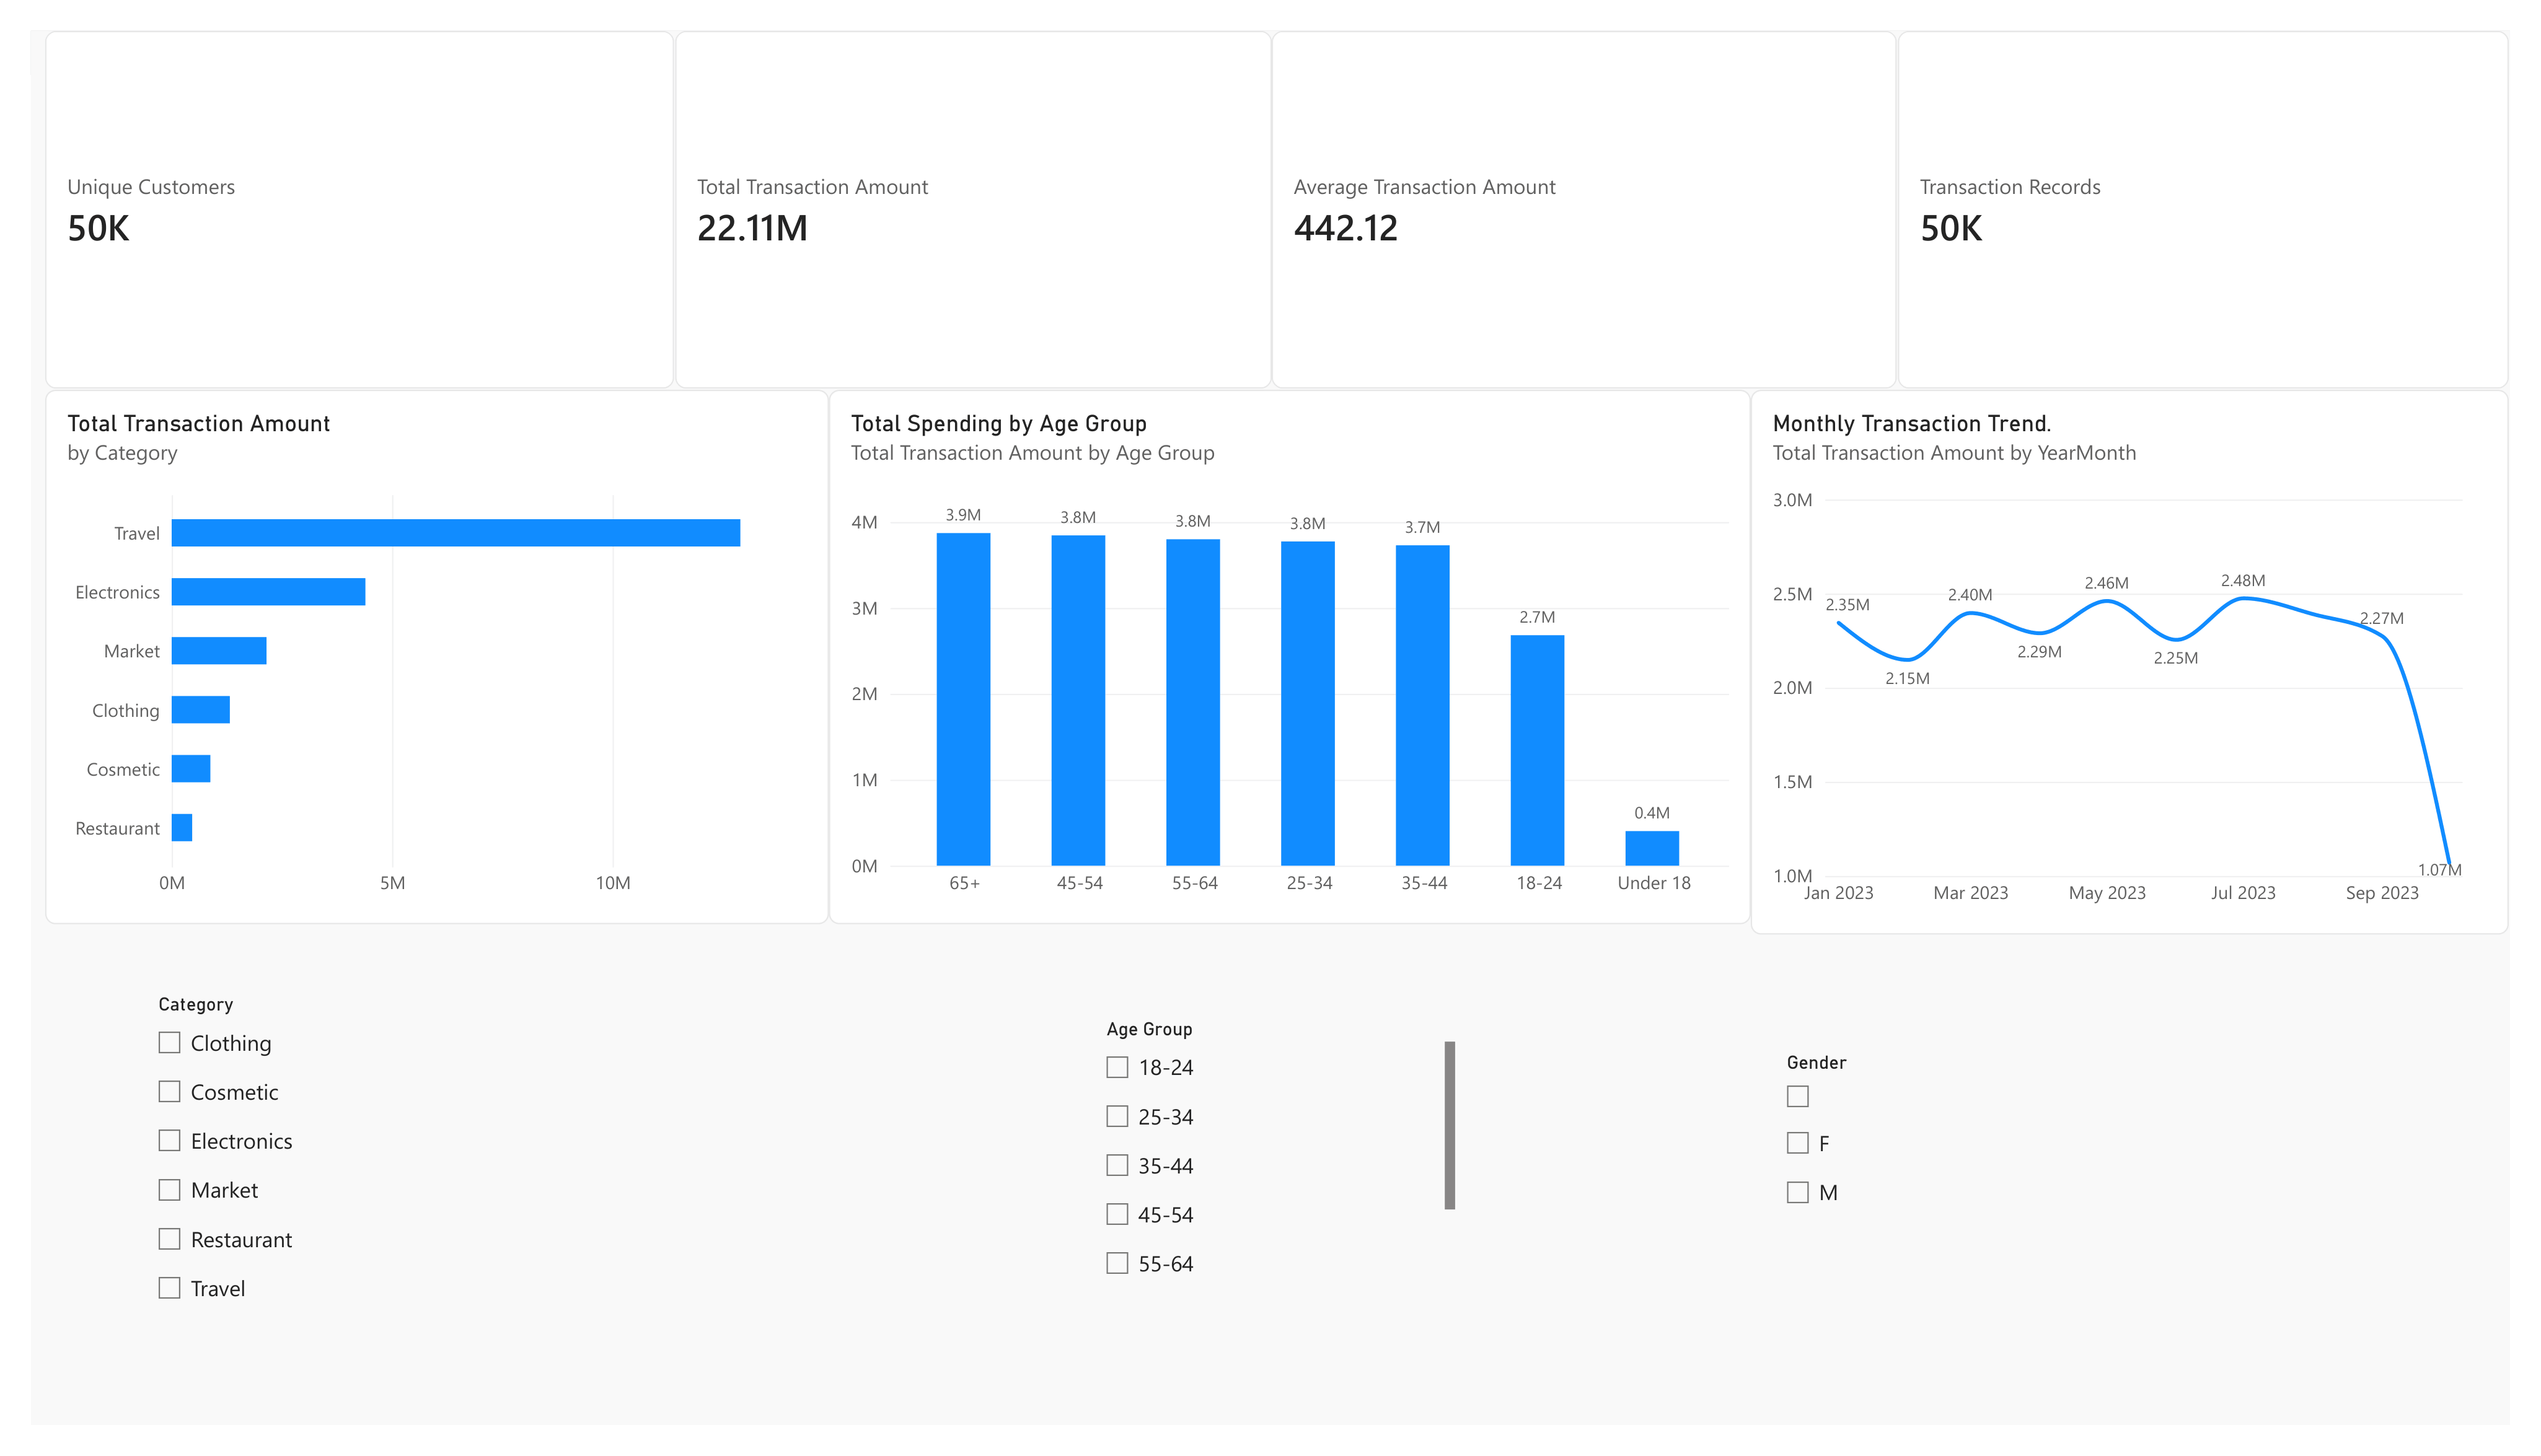

This screenshot's page, from the dashboard's own definition file:
{"tool":"powerbi","page":{"name":"Page 1","canvas":[1920,1080],"ordinal":0},"visuals":[{"type":"cardVisual","fields":{"Data":["Transactions.Unique Customers"]},"box":[11.3,0,487.6,277.8],"z":0},{"type":"cardVisual","fields":{"Data":["Transactions.Transaction Records"]},"box":[1445.7,0,473.4,277.8],"z":1000},{"type":"cardVisual","fields":{"Data":["Transactions.Total Transaction Amount"]},"box":[498.9,0,462.1,277.8],"z":2000},{"type":"cardVisual","fields":{"Data":["Transactions.Average Transaction Amount"]},"box":[961,0,484.7,277.8],"z":3000},{"type":"clusteredBarChart","fields":{"Category":["Transactions.Category"],"Y":["Transactions.Total Transaction Amount"]},"box":[11.3,277.8,606.6,413.9],"z":4000},{"type":"clusteredColumnChart","title":"Total Spending by Age Group","fields":{"Category":["Transactions.Age Group"],"Y":["Transactions.Total Transaction Amount"]},"box":[618,277.8,714.3,413.9],"z":5000},{"type":"lineChart","title":"Monthly Transaction Trend.","fields":{"Category":["Transactions.YearMonth"],"Y":["Transactions.Total Transaction Amount"]},"box":[1332.3,277.8,586.8,422.4],"z":6000},{"type":"slicer","fields":{"Values":["Transactions.Category"]},"box":[90.7,745.5,408.2,277.8],"z":6001},{"type":"slicer","fields":{"Values":["Transactions.Gender"]},"box":[1352.1,790.9,385.5,187.1],"z":6002},{"type":"slicer","fields":{"Values":["Transactions.Age Group"]},"box":[824.9,765.4,277.8,204.1],"z":6003}]}

Visuals, with their boxes on the page's 1920x1080 design canvas (x1, y1, x2, y2). These are canvas units, not pixel positions in the 2541x1456 screenshot, which may show the page scaled, cropped or inside an application window:
cardVisual - Transactions.Unique Customers: bbox=(11, 0, 499, 278)
cardVisual - Transactions.Transaction Records: bbox=(1446, 0, 1919, 278)
cardVisual - Transactions.Total Transaction Amount: bbox=(499, 0, 961, 278)
cardVisual - Transactions.Average Transaction Amount: bbox=(961, 0, 1446, 278)
clusteredBarChart - Transactions.Category x Transactions.Total Transaction Amount: bbox=(11, 278, 618, 692)
"Total Spending by Age Group" clusteredColumnChart: bbox=(618, 278, 1332, 692)
"Monthly Transaction Trend." lineChart: bbox=(1332, 278, 1919, 700)
slicer - Transactions.Category: bbox=(91, 746, 499, 1023)
slicer - Transactions.Gender: bbox=(1352, 791, 1738, 978)
slicer - Transactions.Age Group: bbox=(825, 765, 1103, 970)
